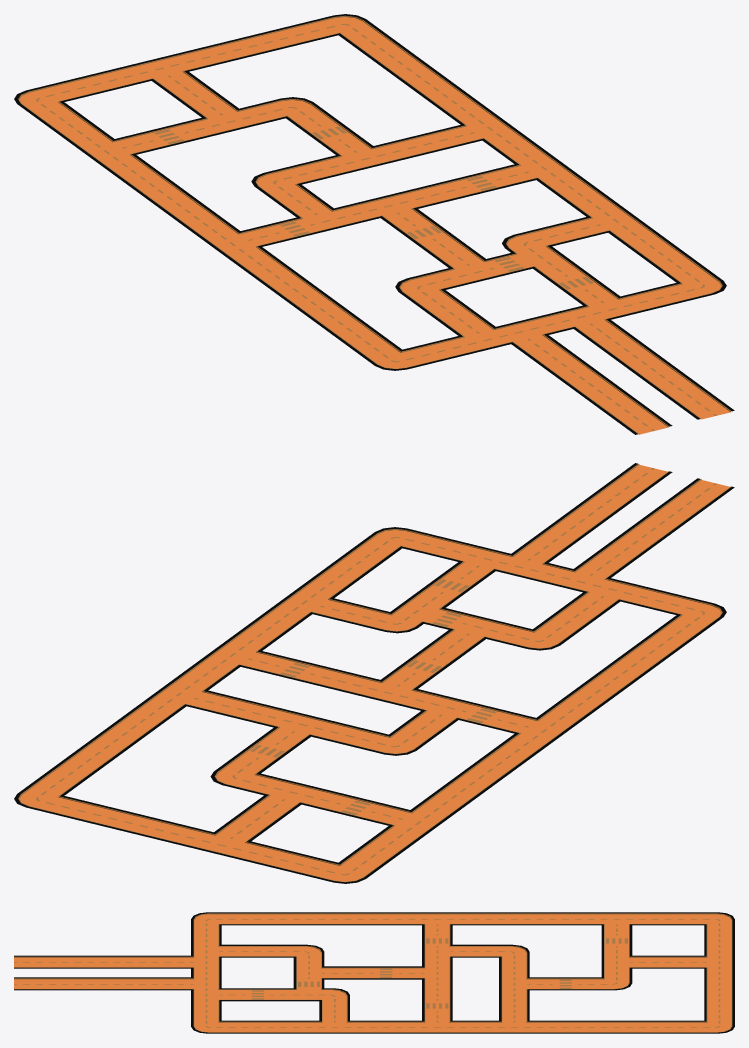
The model's file is Dashboard_Map.fbx.
3 renders of one model, top to bottom at view 1: azimuth 30°, elevation 25°; view 2: azimuth 150°, elevation 25°; view 3: azimuth 270°, elevation 25°, orthographic. The views are drawn at different scales.
Visible parts, largest first — view 1: Map-Road-Rine.018, Map-Road-Rine.036, Map-Road-Rine.026, Map-Road-Rine.035, Map-Road-Rine.028, Map-Road-Rine.004, Map-Road-Rine.016, Map-Road-Rine.008, Map-Road-Rine.013, Map-Road-Rine.005, Map-Road-Rine.024, Map-Road-Rine.027 (+30 smaller); view 2: Map-Road-Rine.018, Map-Road-Rine.036, Map-Road-Rine.035, Map-Road-Rine.026, Map-Road-Rine.028, Map-Road-Rine.004, Map-Road-Rine.016, Map-Road-Rine.008, Map-Road-Rine.013, Map-Road-Rine.005, Map-Road-Rine.027, Map-Road-Rine.024 (+29 smaller); view 3: Map-Road-Rine.018, Map-Road-Rine.036, Map-Road-Rine.026, Map-Road-Rine.035, Map-Road-Rine.028, Map-Road-Rine.004, Map-Road-Rine.016, Map-Road-Rine.005, Map-Road-Rine.027, Map-Road-Rine.024, Map-Road-Rine.021, Map-Road-Rine.013 (+53 smaller).
Boxes of the visible parts, <box> form: Map-Road-Rine.018: <box>223,246,403,359</box>; Map-Road-Rine.036: <box>572,318,734,419</box>; Map-Road-Rine.026: <box>337,25,499,125</box>; Map-Road-Rine.035: <box>510,334,672,434</box>; Map-Road-Rine.028: <box>97,153,241,241</box>; Map-Road-Rine.004: <box>164,19,341,72</box>; Map-Road-Rine.016: <box>608,222,715,283</box>; Map-Road-Rine.008: <box>40,64,153,102</box>; Map-Road-Rine.013: <box>372,124,484,162</box>; Map-Road-Rine.005: <box>406,288,496,336</box>; Map-Road-Rine.024: <box>536,169,625,218</box>; Map-Road-Rine.027: <box>25,101,115,149</box>; Map-Road-Rine.018: <box>536,614,715,728</box>; Map-Road-Rine.036: <box>510,463,672,563</box>; Map-Road-Rine.035: <box>574,478,734,579</box>; Map-Road-Rine.026: <box>25,696,185,796</box>; Map-Road-Rine.028: <box>409,732,553,820</box>; Map-Road-Rine.004: <box>40,795,216,848</box>; Map-Road-Rine.016: <box>295,538,402,599</box>; Map-Road-Rine.008: <box>227,841,341,878</box>; Map-Road-Rine.013: <box>184,690,298,728</box>; Map-Road-Rine.005: <box>531,591,621,639</box>; Map-Road-Rine.027: <box>339,824,427,872</box>; Map-Road-Rine.024: <box>223,604,312,652</box>; Map-Road-Rine.018: <box>219,912,424,925</box>; Map-Road-Rine.036: <box>14,977,193,990</box>; Map-Road-Rine.026: <box>527,1020,706,1033</box>; Map-Road-Rine.035: <box>14,955,193,968</box>; Map-Road-Rine.028: <box>450,912,603,925</box>; Map-Road-Rine.004: <box>704,967,734,1022</box>; Map-Road-Rine.016: <box>219,1020,321,1033</box>; Map-Road-Rine.005: <box>219,944,296,957</box>; Map-Road-Rine.027: <box>629,912,706,925</box>; Map-Road-Rine.024: <box>347,1020,424,1033</box>; Map-Road-Rine.021: <box>629,955,706,968</box>; Map-Road-Rine.013: <box>499,989,529,1022</box>.
Bounding box in the file's own units: 22.4 × 0.0423 × 56.2.
